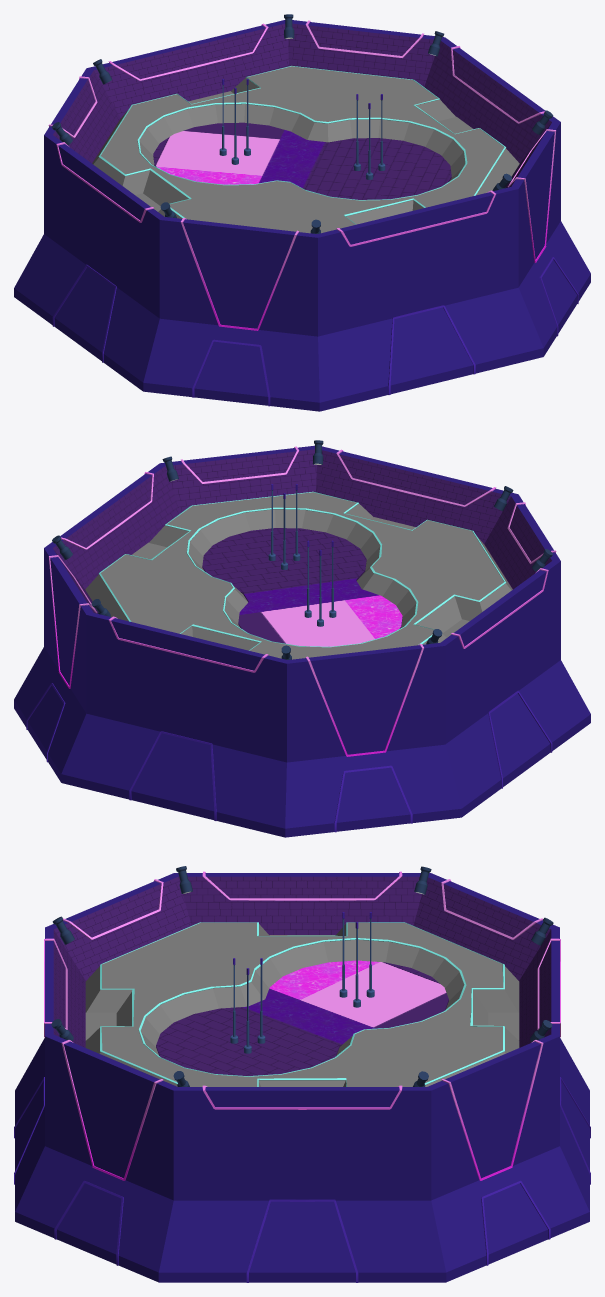
Rendered from New aarena.fbx.
3 views of the same model, one above another, from view 1: azimuth 30°, elevation 25°; view 2: azimuth 150°, elevation 25°; view 3: azimuth 270°, elevation 25° (orthographic). The views are drawn at different scales.
Visible parts, largest first — view 1: Walls, Glass_roof, tower_base (×2), lamps, antenna1, antenna2; view 2: Walls, Glass_roof, tower_base (×2), lamps, antenna1, antenna2; view 3: Walls, Glass_roof, tower_base (×2), lamps, obs_box01 (×2), antenna1, antenna2.
Part boxes in pixels (box(x1,y1,x2,y2)): Walls: box(14, 20, 590, 411); Glass_roof: box(92, 65, 519, 233); tower_base (×2): box(153, 122, 451, 199); lamps: box(51, 14, 553, 233); antenna1: box(219, 79, 250, 164); antenna2: box(354, 94, 385, 179); Walls: box(14, 445, 590, 837); Glass_roof: box(85, 491, 512, 659); tower_base (×2): box(202, 528, 402, 646); lamps: box(52, 440, 552, 659); antenna1: box(304, 540, 336, 626); antenna2: box(268, 484, 300, 569); Walls: box(14, 871, 590, 1282); Glass_roof: box(85, 922, 519, 1086); tower_base (×2): box(156, 960, 448, 1075); lamps: box(51, 866, 553, 1086); obs_box01 (×2): box(85, 1012, 519, 1040); antenna1: box(339, 912, 374, 1007); antenna2: box(230, 958, 265, 1053).
Size of the model in its own units: 4158 by 1819 by 4158.
